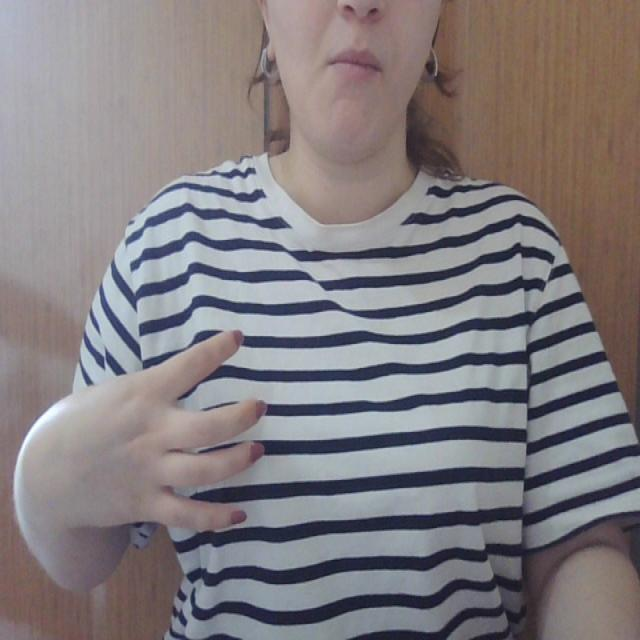Anne: (96, 312, 274, 557)
